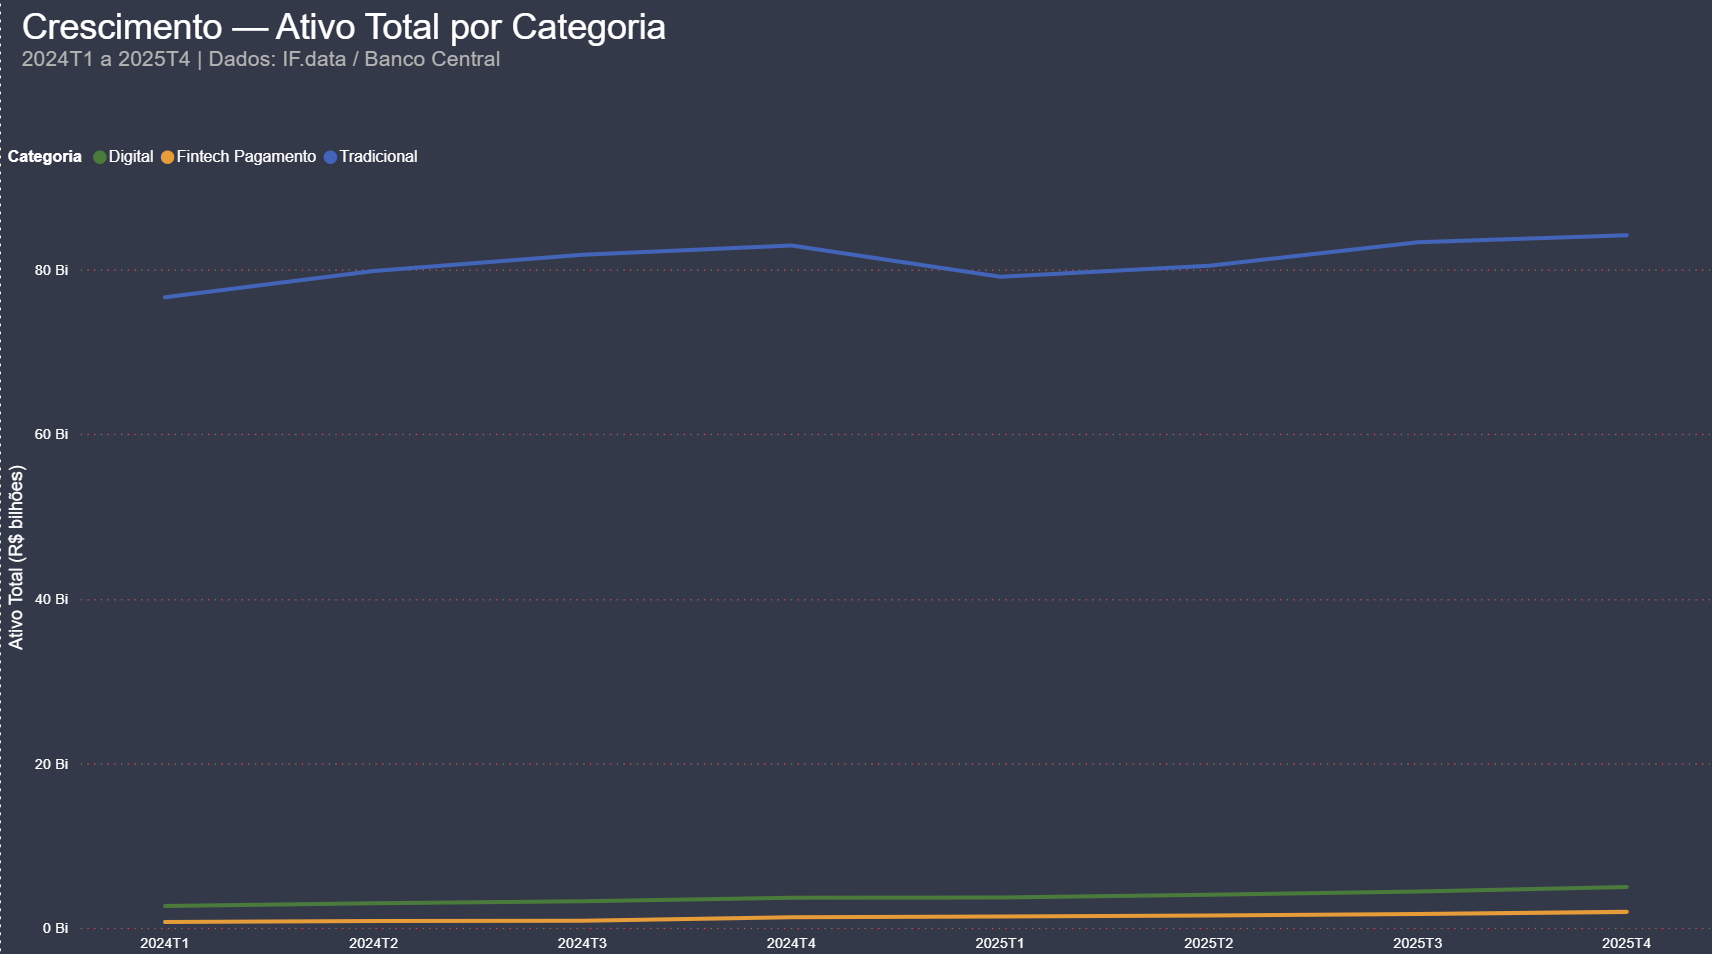

Layout of this report page (visuals, bound fields, positions):
{"tool":"powerbi","page":{"name":"Crescimento","canvas":[1280,720],"ordinal":2},"visuals":[{"type":"lineChart","fields":{"Category":["base_consolidada.Trimestre"],"Y":["Sum(base_consolidada.Ativo Total)"],"Series":["base_consolidada.Categoria"]},"box":[0,98.5,1280.6,620.9],"z":0},{"type":"textbox","box":[10.4,0,507.5,65.7],"z":1}]}

Visuals, with their boxes in screenshot pixels (x1, y1, x2, y2), scaled from the page's 1280x720 canvas onto the 1712x954 screenshot:
lineChart - base_consolidada.Trimestre x Sum(base_consolidada.Ativo Total): crop(0, 131, 1711, 953)
textbox: crop(14, 0, 693, 87)
